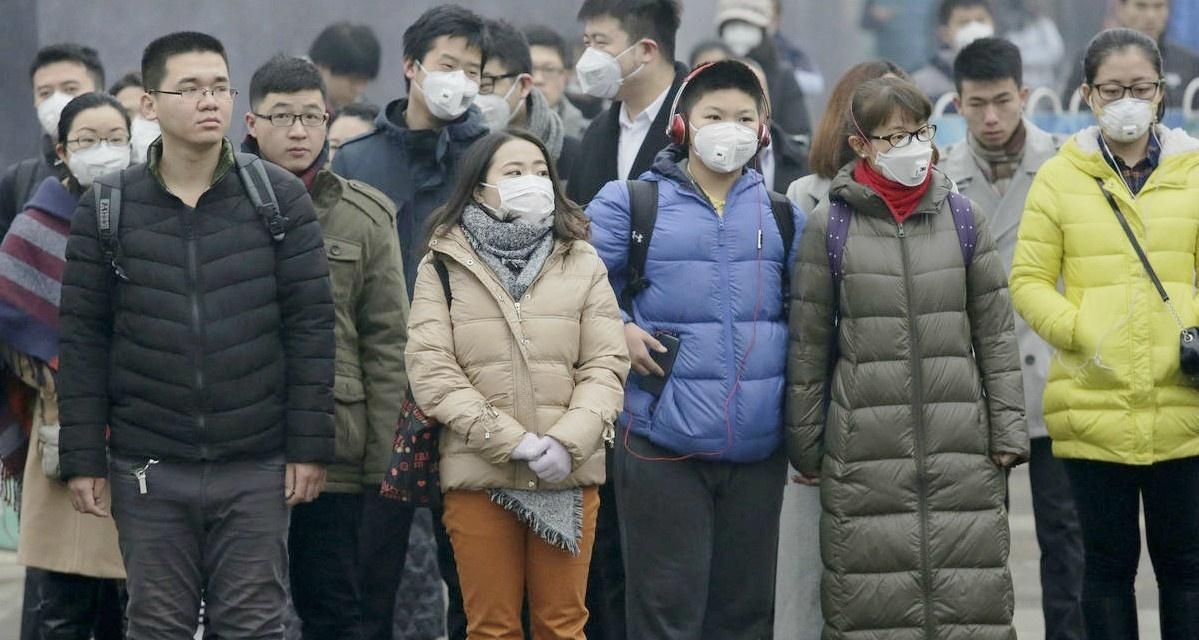NONE: (163, 67, 233, 141), (259, 96, 327, 170), (964, 86, 1019, 147), (520, 58, 568, 105), (334, 72, 377, 113), (1125, 1, 1168, 39)
OK: (685, 99, 768, 182), (578, 27, 655, 104), (408, 49, 481, 122), (1091, 77, 1160, 146), (484, 158, 554, 226), (460, 62, 526, 131), (32, 76, 99, 143), (63, 122, 130, 189), (872, 122, 937, 187), (112, 102, 166, 170), (945, 13, 998, 55), (723, 14, 766, 55)
